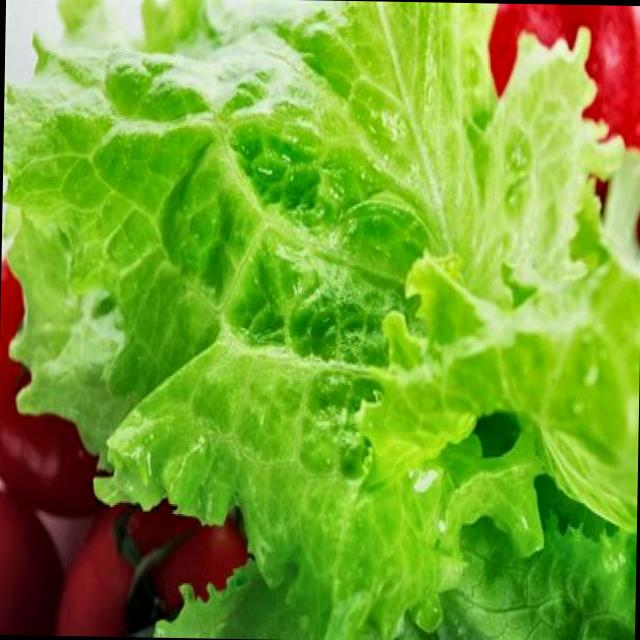Lettuce-Ready-to-Harvest: (2, 0, 640, 640)
